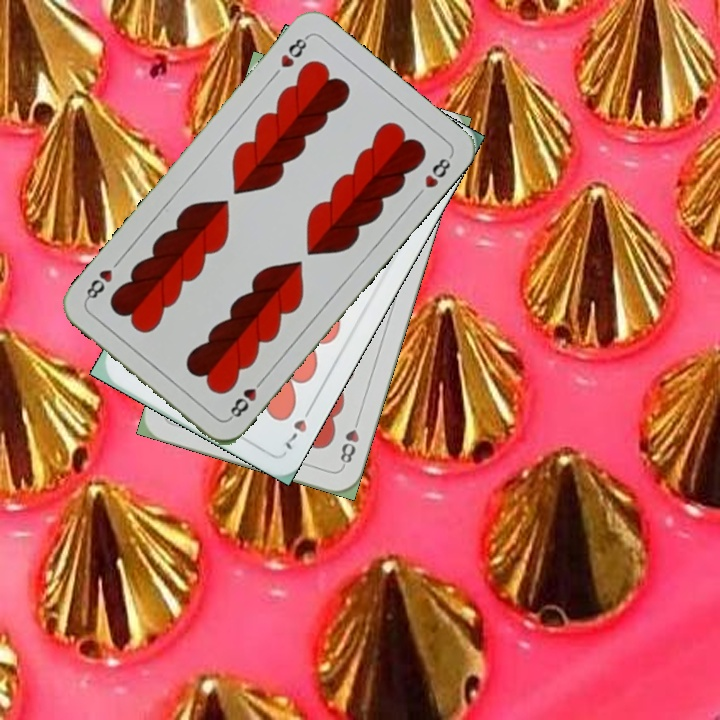H7: (281, 400, 316, 453)
H8: (224, 373, 268, 422), (335, 412, 363, 470), (276, 31, 311, 71)
